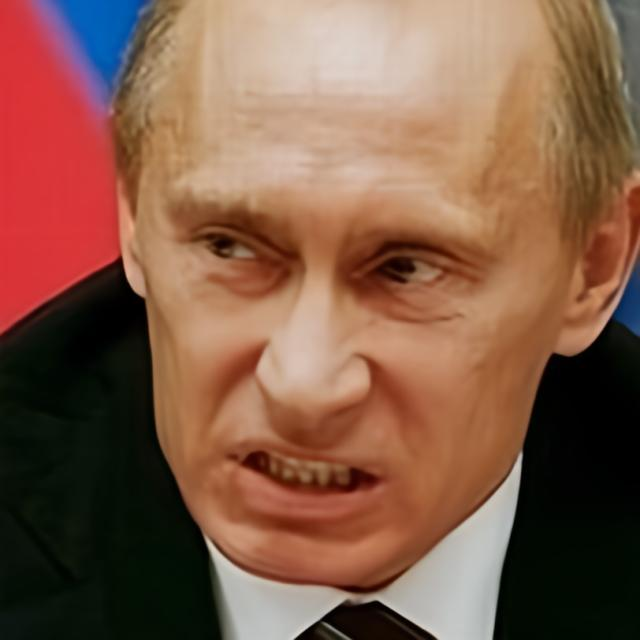disgust: (142, 0, 560, 590)
